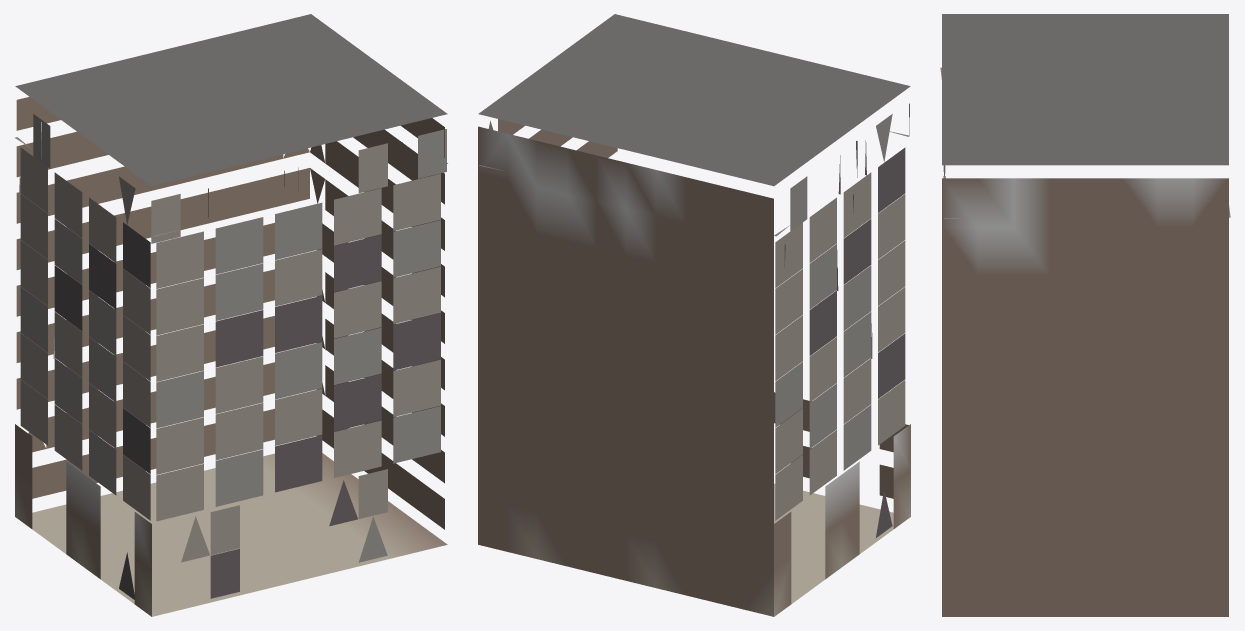
The model's file is downtown_large_lod2.glb.
3 views of the same model, side by side, from view 1: azimuth 30°, elevation 25°; view 2: azimuth 150°, elevation 25°; view 3: azimuth 270°, elevation 25° (orthographic). The views are drawn at different scales.
Visible parts, largest first — view 1: downtown_large_lod2; view 2: downtown_large_lod2; view 3: downtown_large_lod2.
Part boxes in pixels (x1,y1,x2,y2): downtown_large_lod2: [15, 14, 447, 616]; downtown_large_lod2: [478, 14, 910, 616]; downtown_large_lod2: [940, 14, 1230, 616].
Size of the model in its own units: 20.2 by 27.8 by 16.2.
